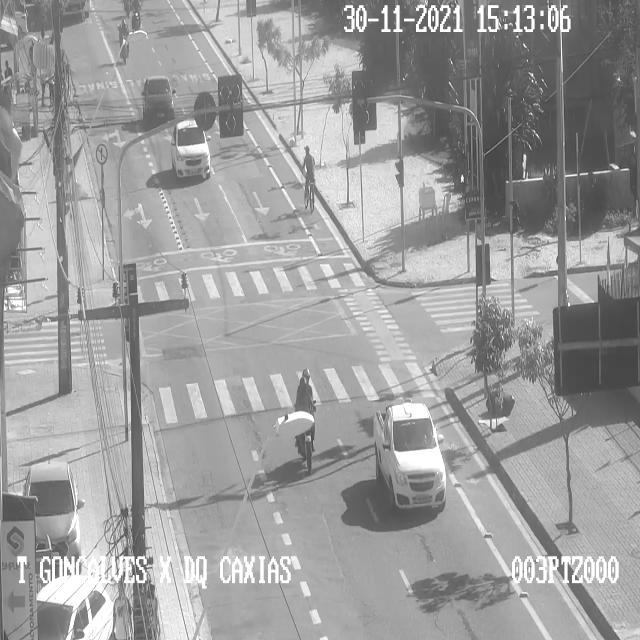Bus: (54, 0, 93, 22)
Car: (373, 402, 445, 508), (25, 462, 81, 572), (36, 575, 115, 639), (170, 119, 210, 178), (142, 75, 174, 120)
Motorcycle: (295, 367, 315, 473), (119, 19, 129, 64), (119, 0, 133, 23), (132, 2, 142, 30)
